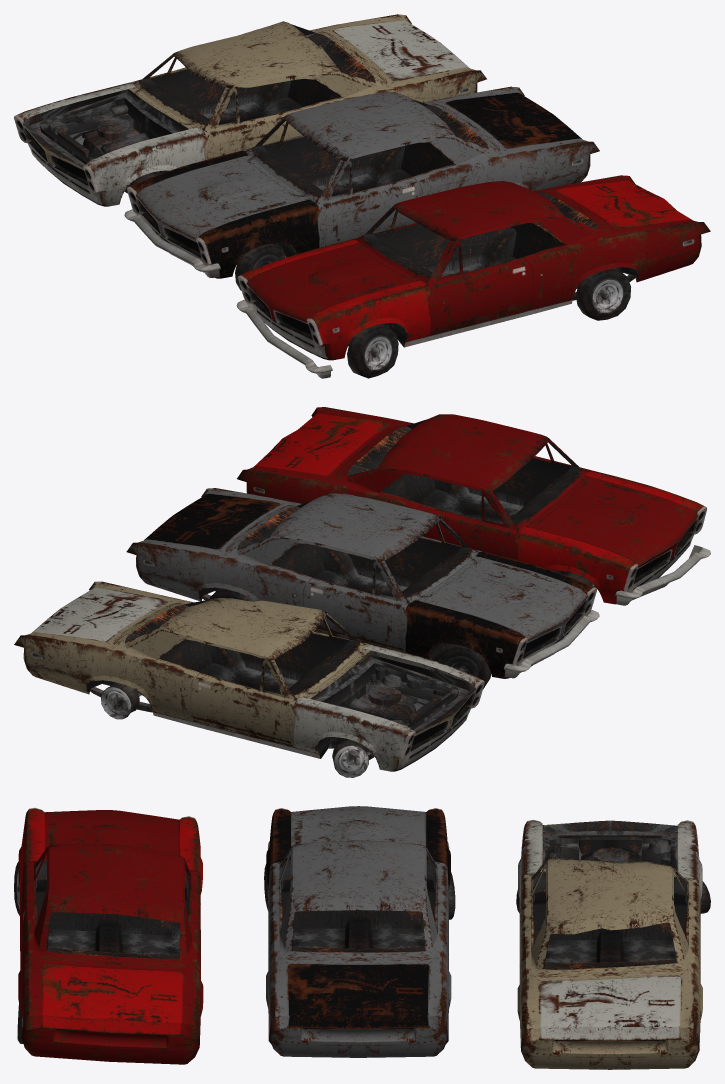
Rendered from rustcar_gto.fbx.
3 views of the same model, one above another, from view 1: azimuth 30°, elevation 25°; view 2: azimuth 150°, elevation 25°; view 3: azimuth 270°, elevation 25° (orthographic). The views are drawn at different scales.
Parts seen in each view (by area): view 1: Deadmuscle_Red, Deadmuscle_Gray, Deadmuscle_Yellow; view 2: Deadmuscle_Yellow, Deadmuscle_Gray, Deadmuscle_Red; view 3: Deadmuscle_Gray, Deadmuscle_Red, Deadmuscle_Yellow.
Part boxes in pixels (box(x1,y1,x2,y2)): Deadmuscle_Red: box(236, 175, 710, 378); Deadmuscle_Gray: box(124, 86, 599, 290); Deadmuscle_Yellow: box(14, 14, 486, 206); Deadmuscle_Yellow: box(14, 581, 484, 777); Deadmuscle_Gray: box(126, 488, 599, 689); Deadmuscle_Red: box(237, 407, 710, 605); Deadmuscle_Gray: box(264, 806, 455, 1057); Deadmuscle_Red: box(14, 807, 203, 1064); Deadmuscle_Yellow: box(516, 820, 710, 1069).
Bounding box in the file's own units: 520 × 138 × 693.
